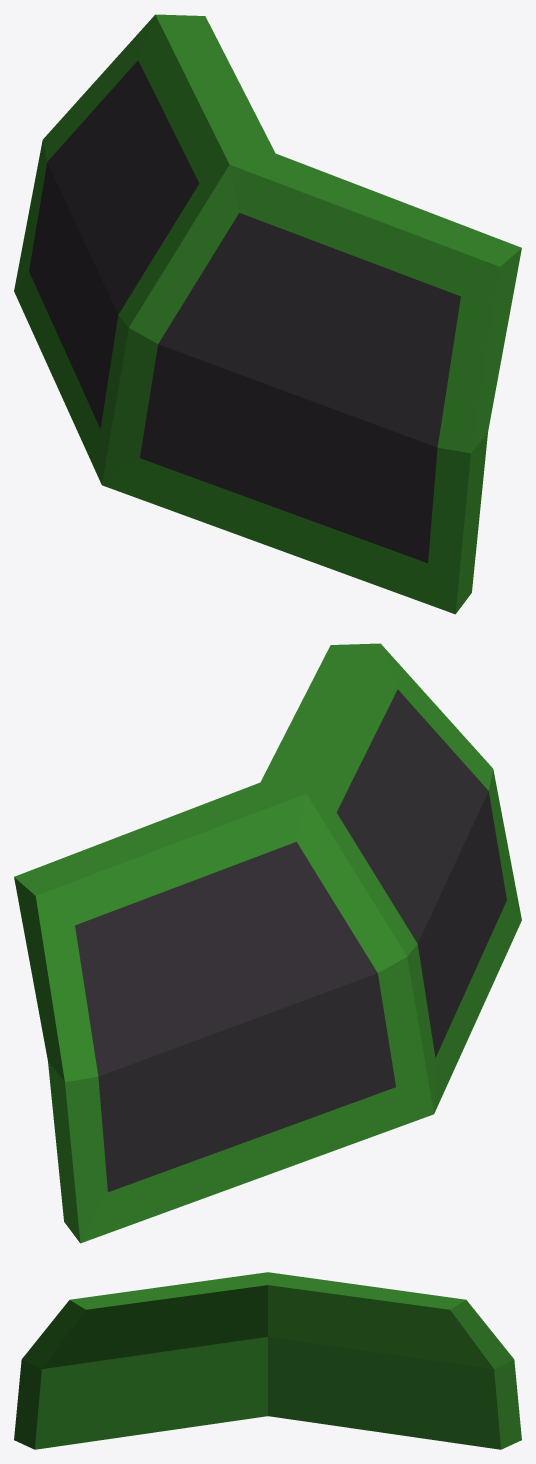
Rendered from Armor_Upgrade.glb.
3 renders of one model, top to bottom at view 1: azimuth 30°, elevation 25°; view 2: azimuth 150°, elevation 25°; view 3: azimuth 270°, elevation 25°, orthographic. The views are drawn at different scales.
Visible parts, largest first — view 1: Armor Upgrade; view 2: Armor Upgrade; view 3: Armor Upgrade.
Boxes of the visible parts, <box> form: Armor Upgrade: <box>14,14,521,614</box>; Armor Upgrade: <box>14,643,521,1243</box>; Armor Upgrade: <box>14,1272,521,1449</box>.
Bounding box in the file's own units: 0.051 × 0.0538 × 0.1489.
